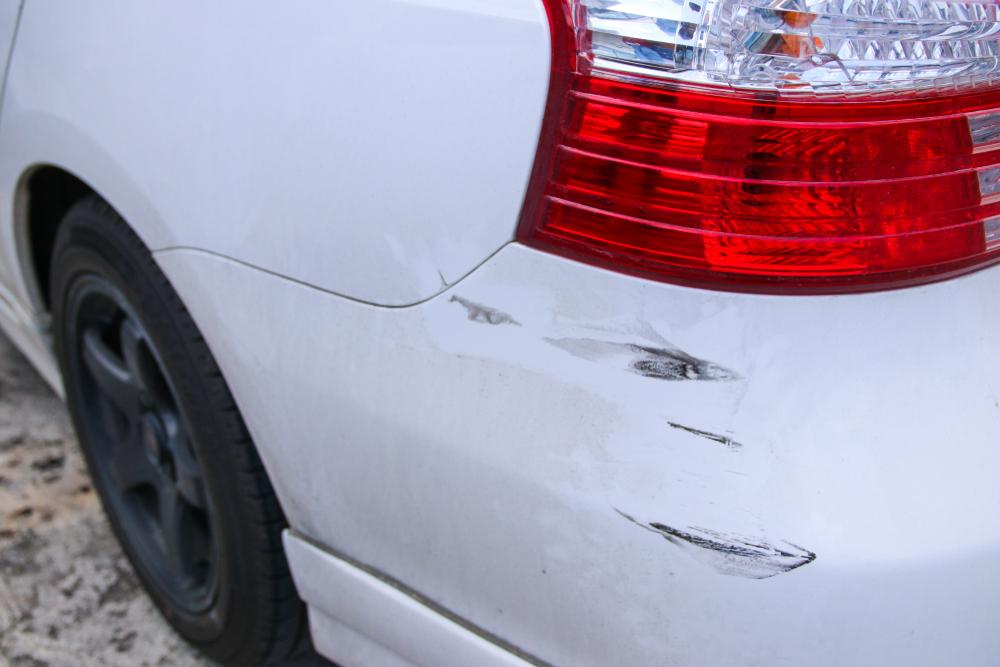scratch: (454, 294, 826, 594)
